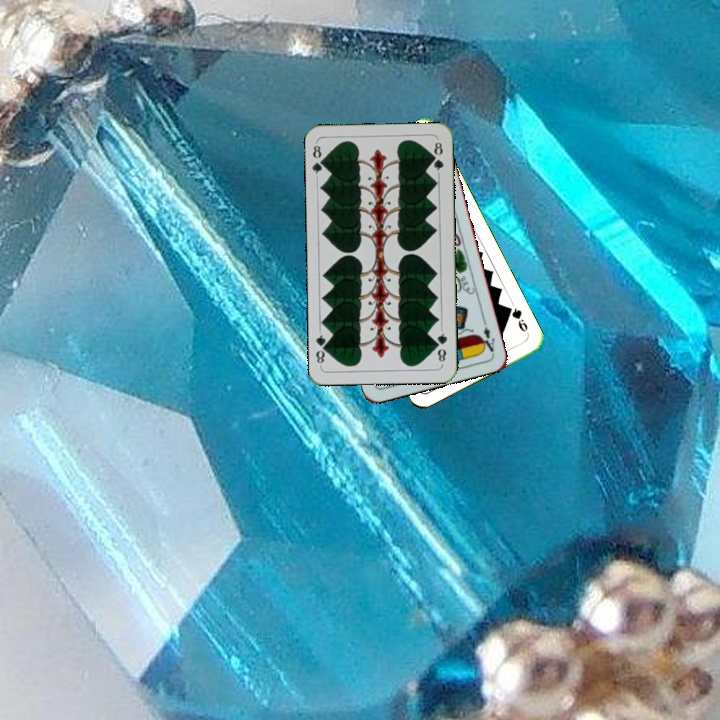EA: (476, 316, 497, 356)
G8: (308, 140, 328, 180), (432, 326, 450, 367)
G9: (503, 303, 530, 335)
